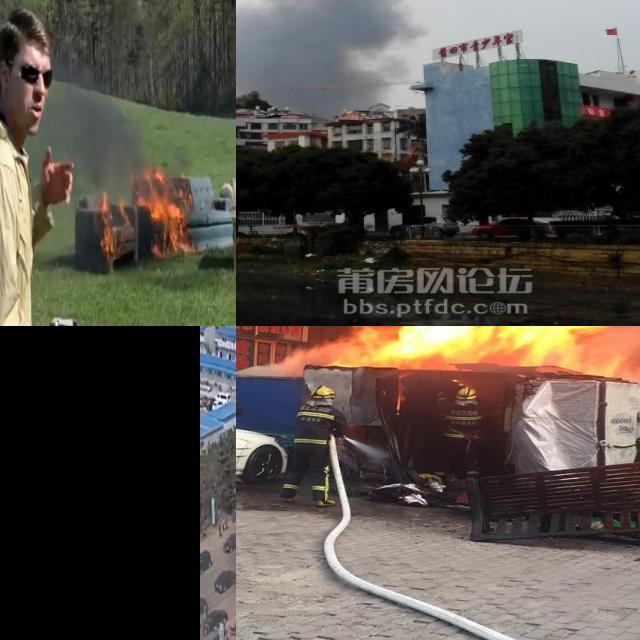fire: (312, 326, 640, 370), (100, 168, 197, 262)
smoke: (236, 0, 428, 117), (44, 64, 150, 198)
